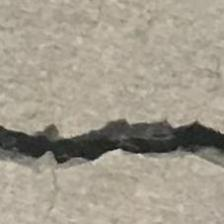Crack: (0, 103, 224, 180)
